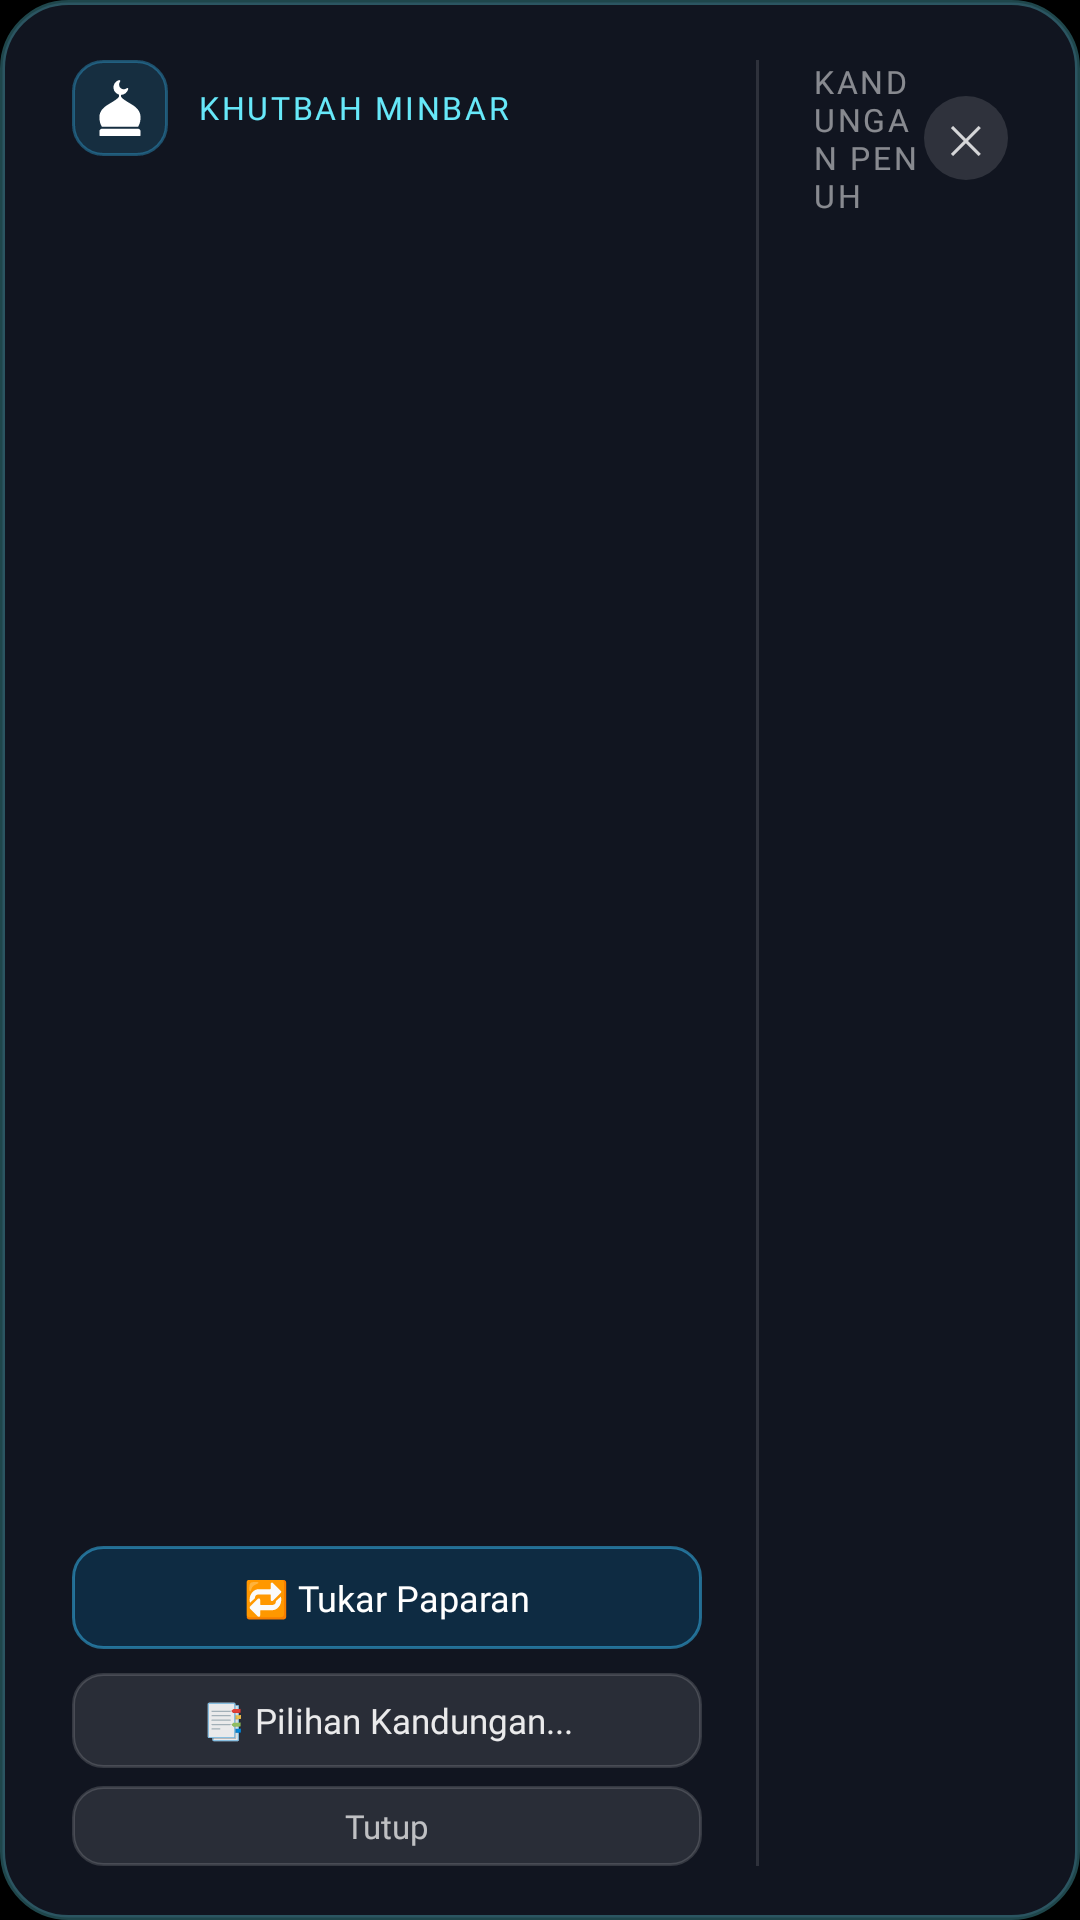

Where to tap for icons on this 1080px x 1920px app screen, as (x,y):
Islamic Icon: (120,108)
